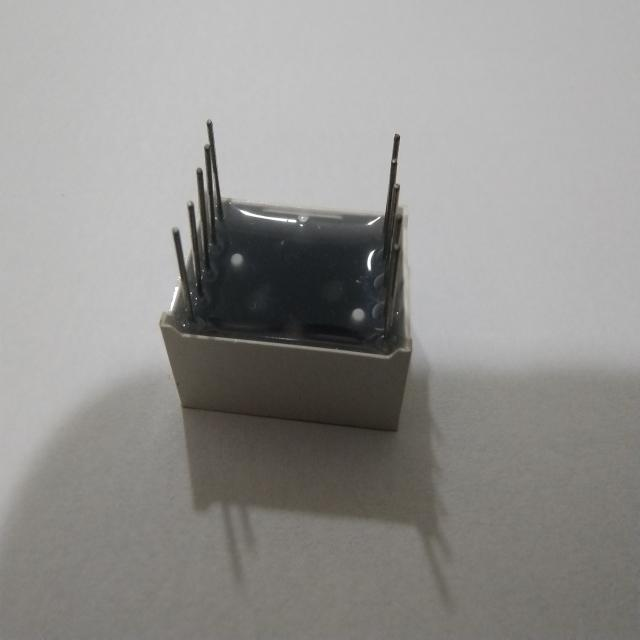7_segments: (149, 107, 428, 460)
